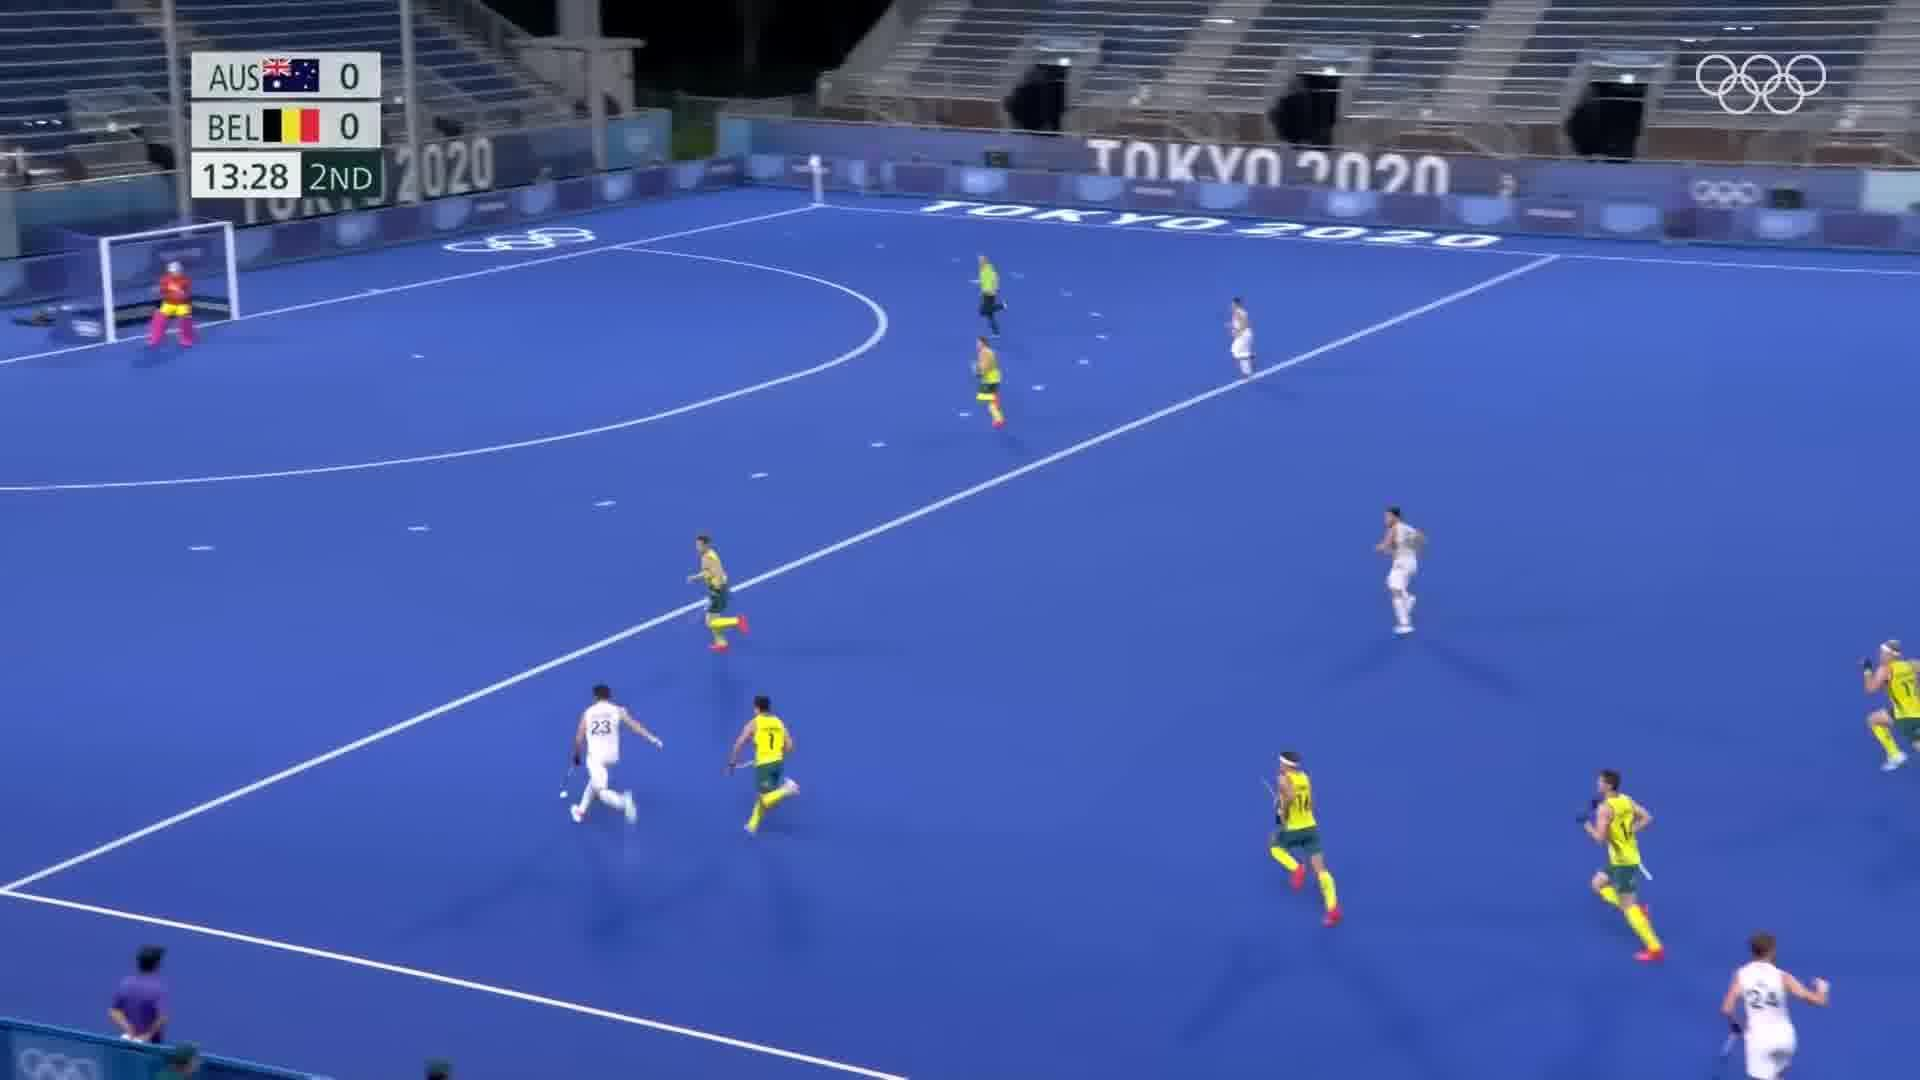ball: (556, 783, 570, 805)
